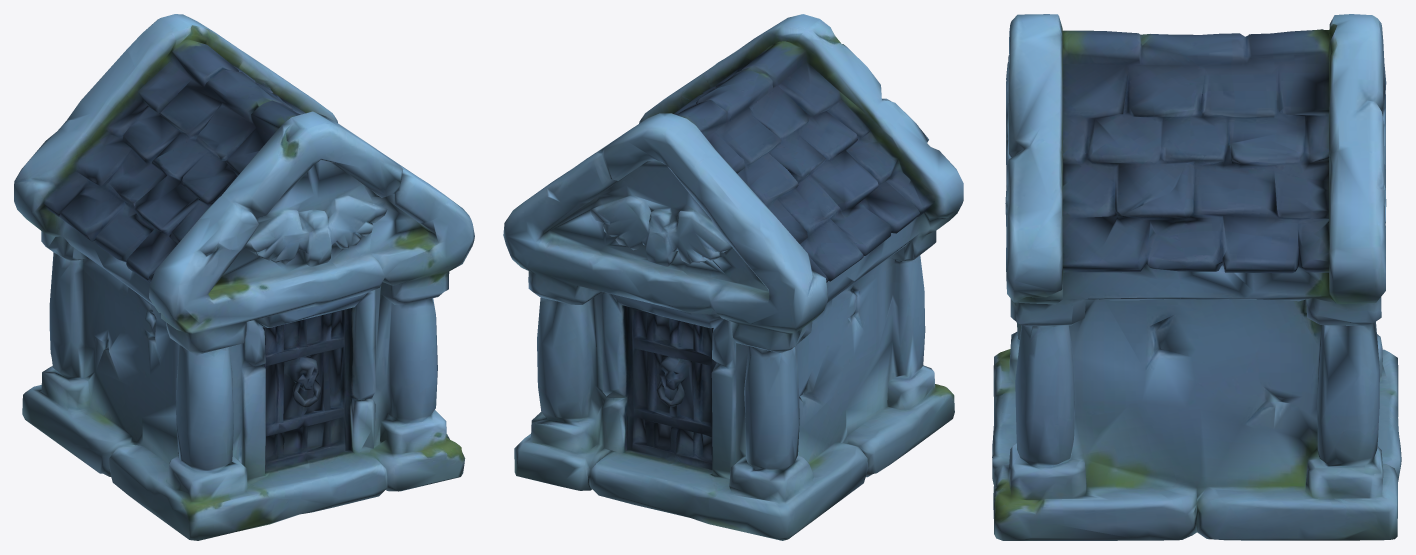
File: gy_crypt-DD8EBpP-.glb
3 renders of one model, left to right at view 1: azimuth 30°, elevation 25°; view 2: azimuth 150°, elevation 25°; view 3: azimuth 270°, elevation 25°, orthographic. The views are drawn at different scales.
Parts seen in each view (by area): view 1: tripo_node_29787f41-a337-44f2-94f0-8183121e7ee6; view 2: tripo_node_29787f41-a337-44f2-94f0-8183121e7ee6; view 3: tripo_node_29787f41-a337-44f2-94f0-8183121e7ee6.
Part boxes in pixels (x1,y1,x2,y2): tripo_node_29787f41-a337-44f2-94f0-8183121e7ee6: (14,14,474,540); tripo_node_29787f41-a337-44f2-94f0-8183121e7ee6: (503,14,963,540); tripo_node_29787f41-a337-44f2-94f0-8183121e7ee6: (992,14,1401,540).
Bounding box in the file's own units: 0.8514 × 1 × 0.831.
1 material, 1 textured.
